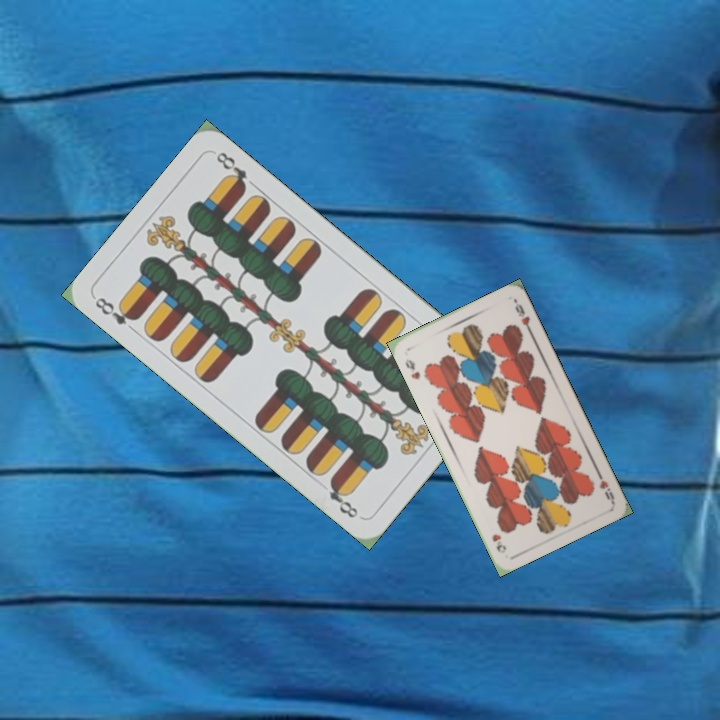E8: (91, 293, 141, 328)
H9: (592, 466, 617, 505), (401, 354, 423, 382)
